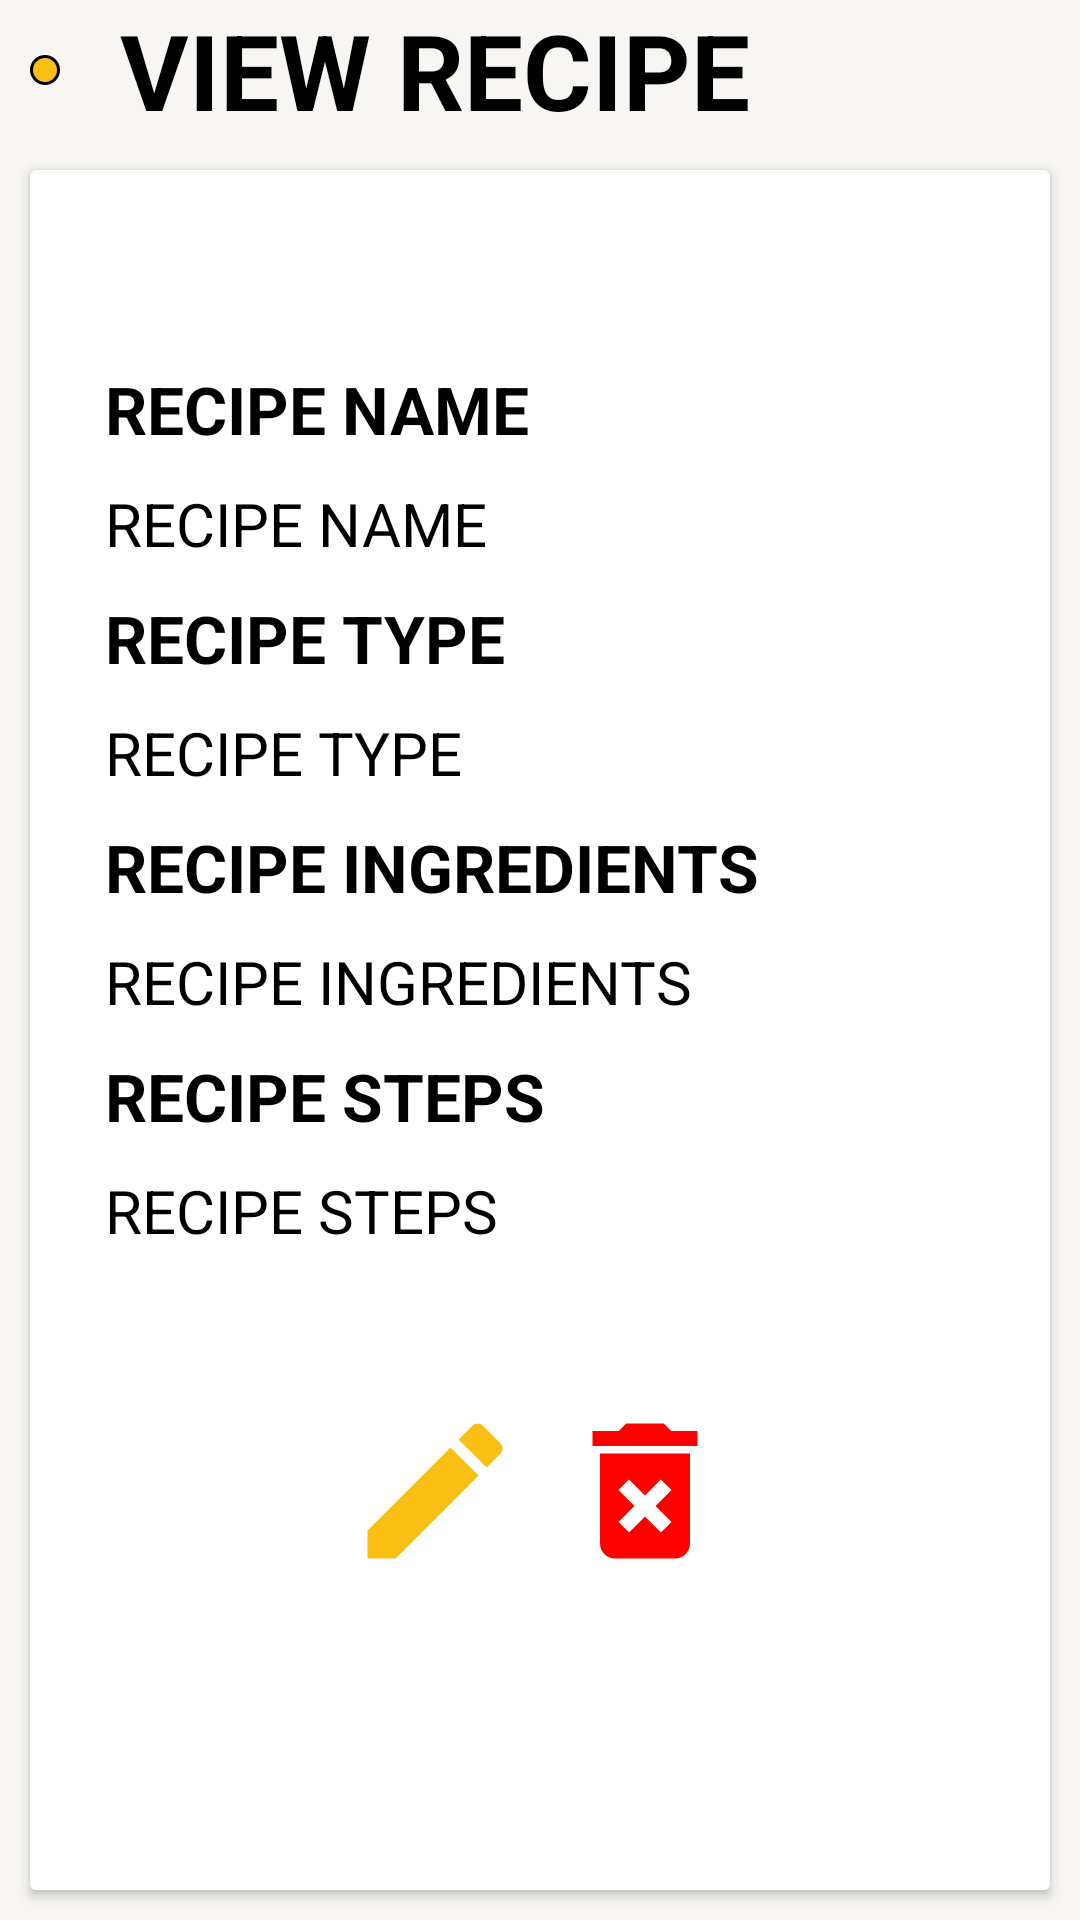

Icon click points for this 1080px×1920px phone screenshot, format (x=x, y=y):
delete forever: (x=645, y=1491)
edit: (x=435, y=1491)
